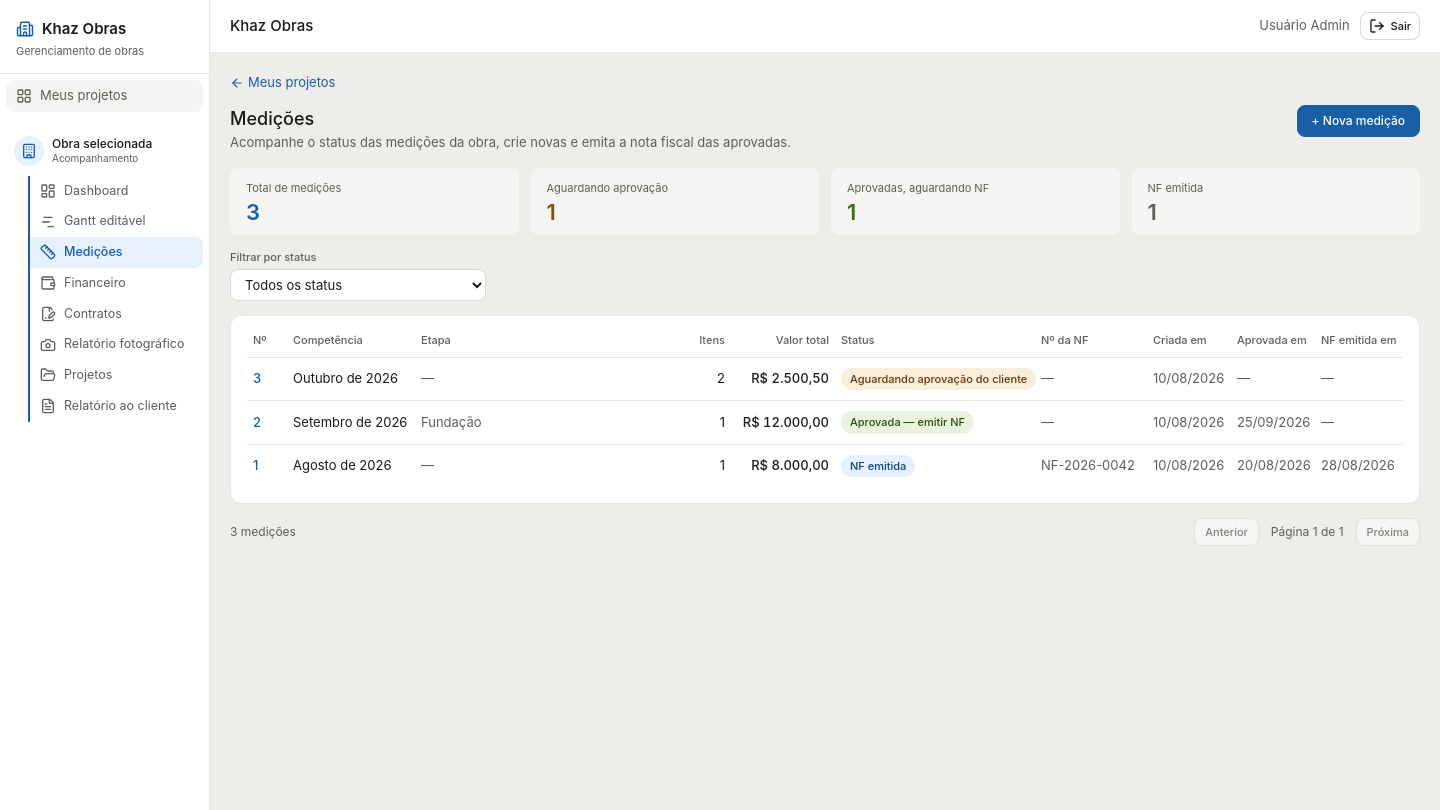
Test: Medições (admin) - paginação e filtro › opção "Aguardando aprovação do cliente" envia status=pending_approval e mostra só as medições desse status
The image size is (1440, 810).
Check: the table is shown, box [247, 332, 1403, 487]
Select "Aguardando aprovação do cliente" in the dropdown labelled "Filtrar por status" at (358, 285), box [230, 269, 486, 301]
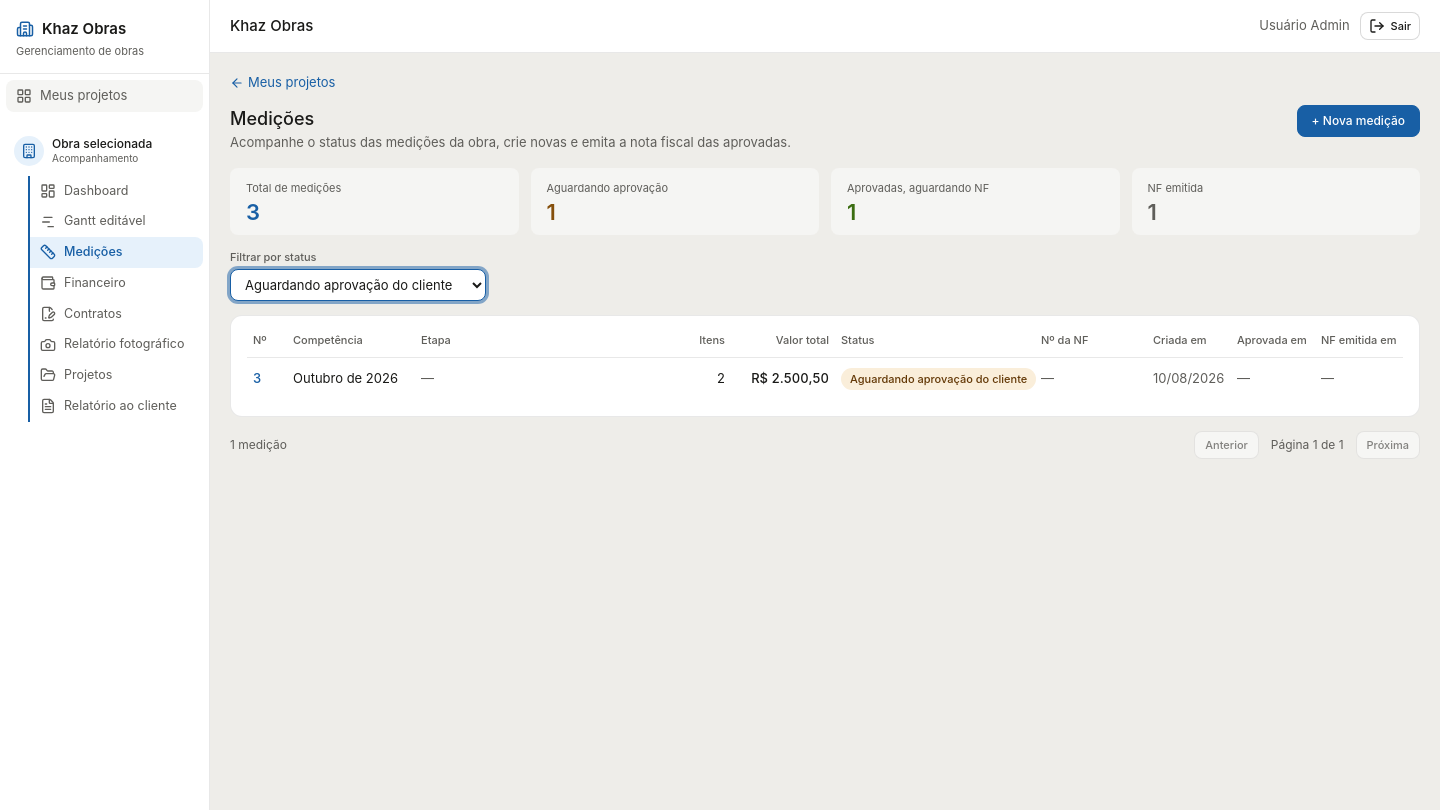
Check: the number of rows is 2, box [247, 332, 1403, 357]; [247, 357, 1403, 400]
